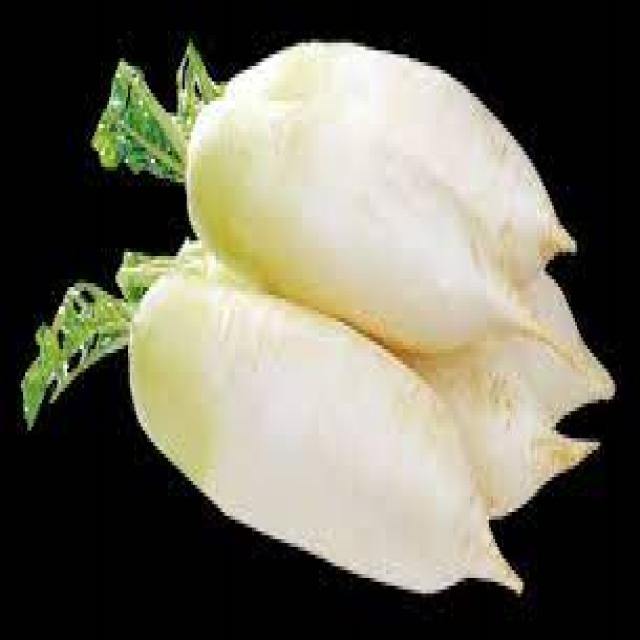raddish: (130, 275, 522, 592)
